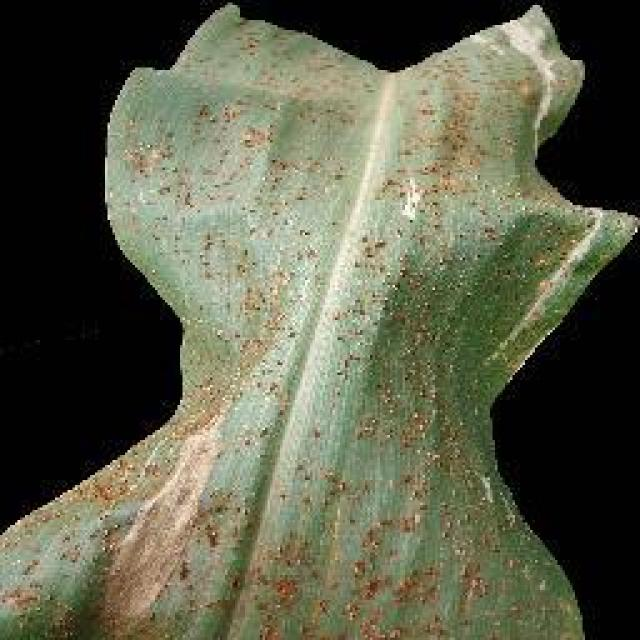Corn Common Rust: (96, 65, 486, 570)
